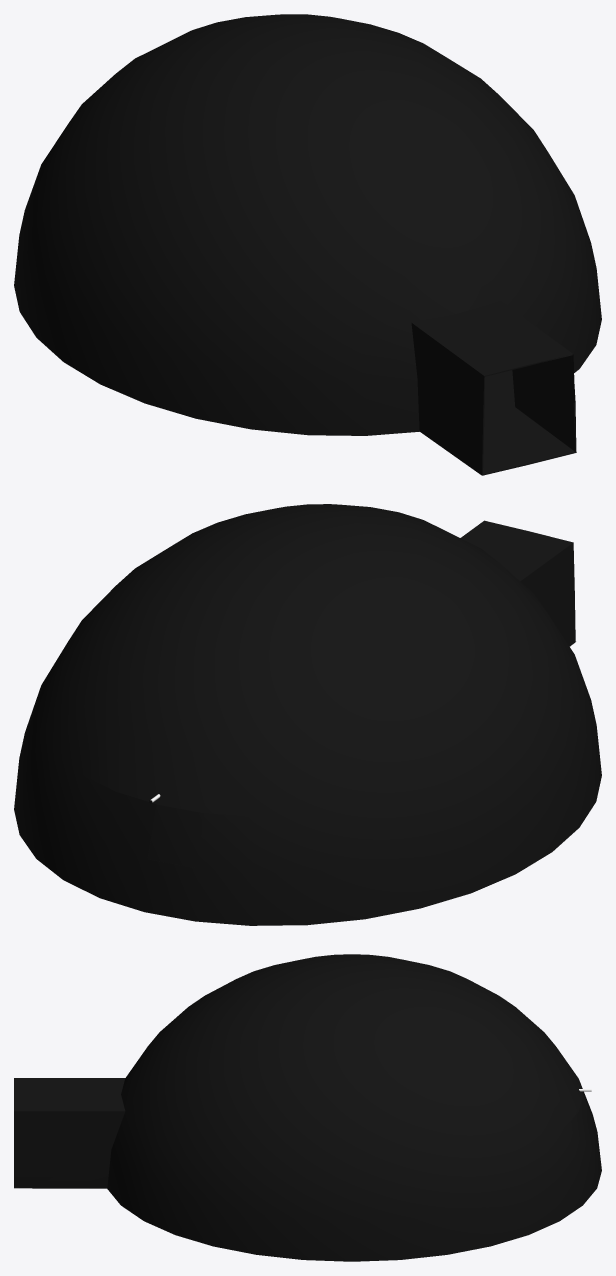
Rendered from cupula.fbx.
3 views of the same model, one above another, from view 1: azimuth 30°, elevation 25°; view 2: azimuth 150°, elevation 25°; view 3: azimuth 270°, elevation 25° (orthographic). The views are drawn at different scales.
Visible parts, largest first — view 1: Cube.007; view 2: Cube.007; view 3: Cube.007.
Boxes of the visible parts, bbox=[...] form: Cube.007: bbox=[14, 14, 601, 475]; Cube.007: bbox=[14, 504, 601, 925]; Cube.007: bbox=[14, 954, 601, 1261].
Size of the model in its own units: 2174 by 1094 by 2962.
1 material, 1 textured.
